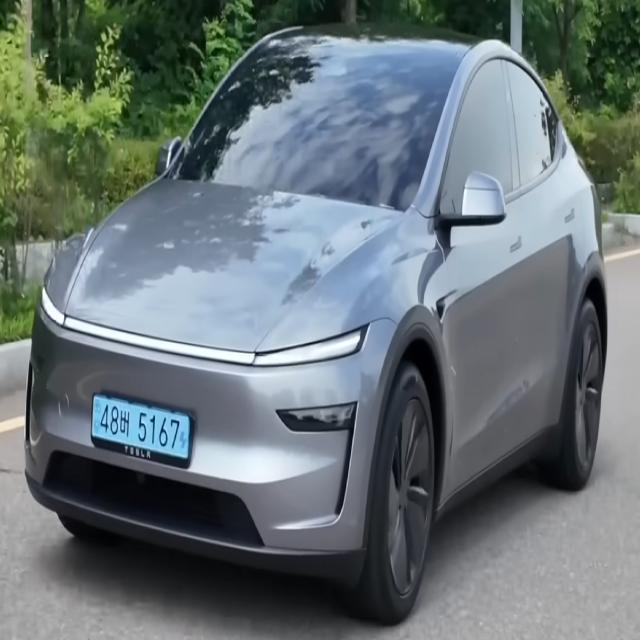car: (77, 380, 217, 486)
carev: (87, 387, 102, 446), (180, 412, 191, 468)
